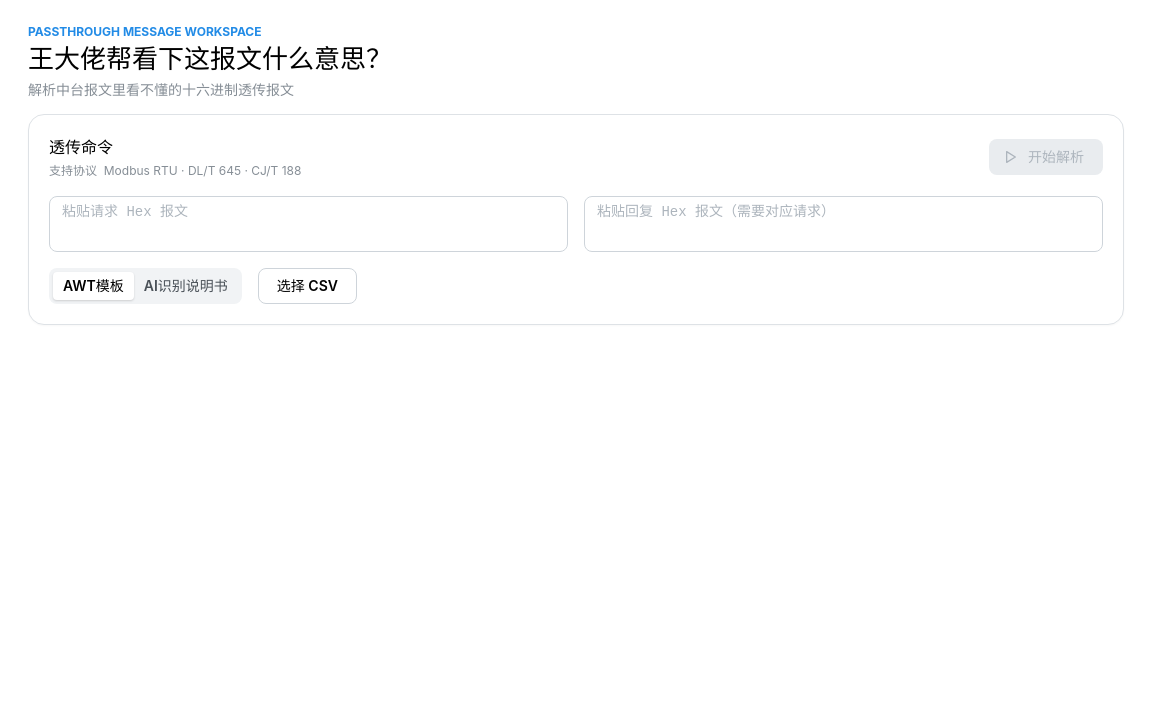
Test case: PassthroughWorkspace › allows an in-flight manual extraction to be stopped
Click the text "AI识别说明书" at [186, 286], box 144,277 -> 228,294
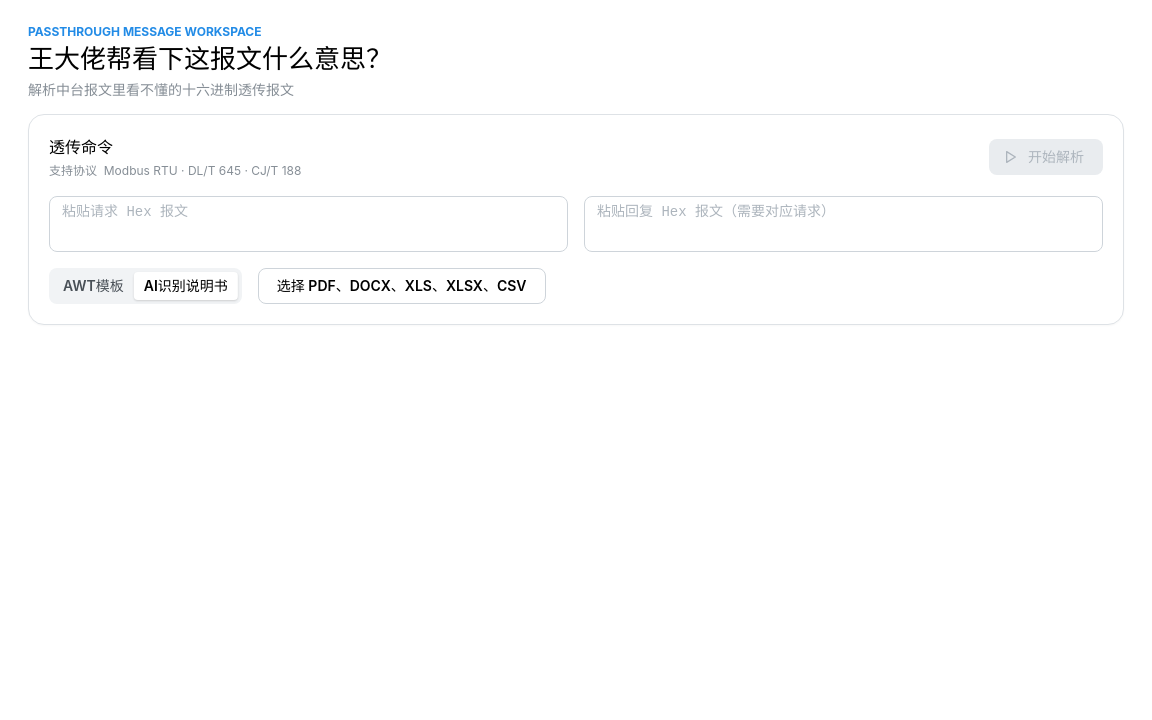
Click the button "选择 PDF、DOCX、XLS、XLSX、CSV" at [402, 286], box 258,268 -> 546,304
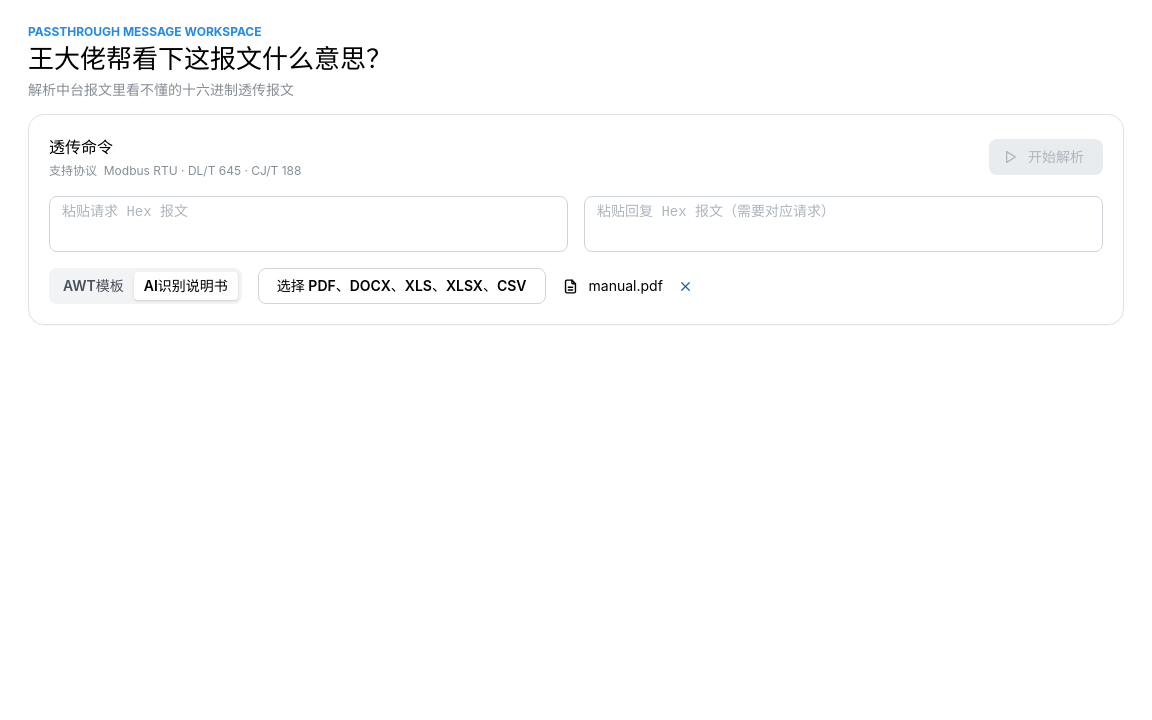
Check: the text "manual.pdf" is shown, box 589,276 -> 663,296
Type "010300000001840A" into the text box named "请求报文" at [308, 224], box 49,196 -> 568,252
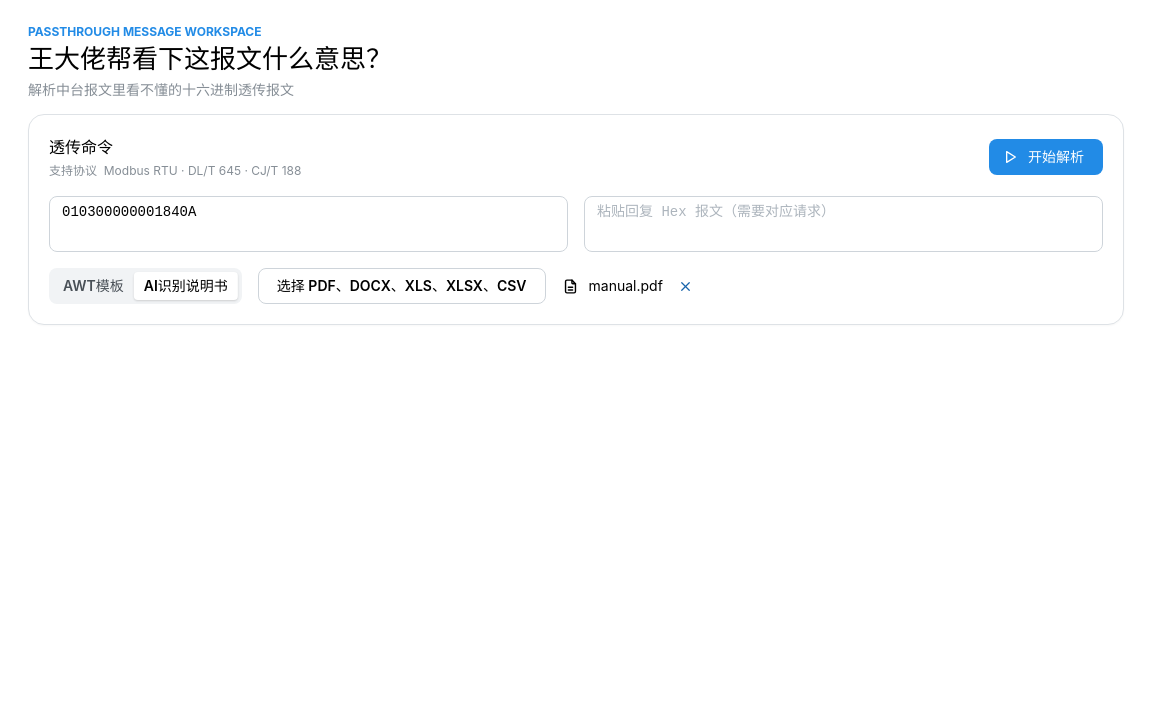
Click the button "开始解析" at [1046, 158], box 989,140 -> 1103,176
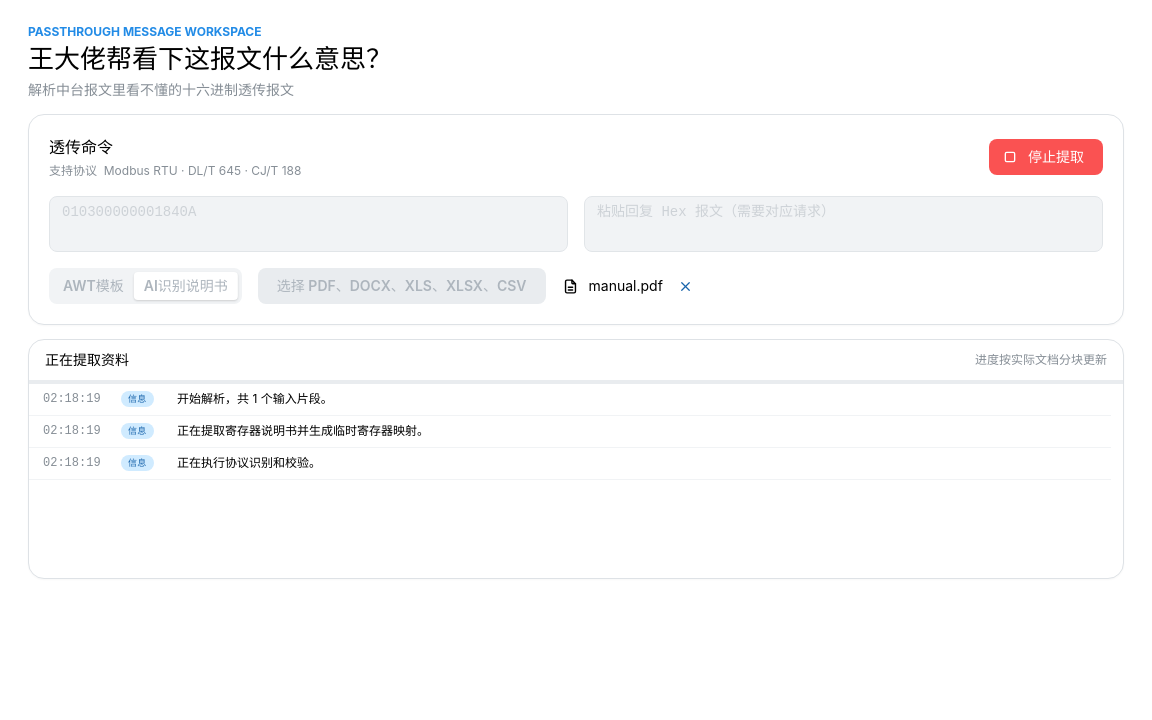
Click the button "停止提取" at [1046, 158], box 989,140 -> 1103,176
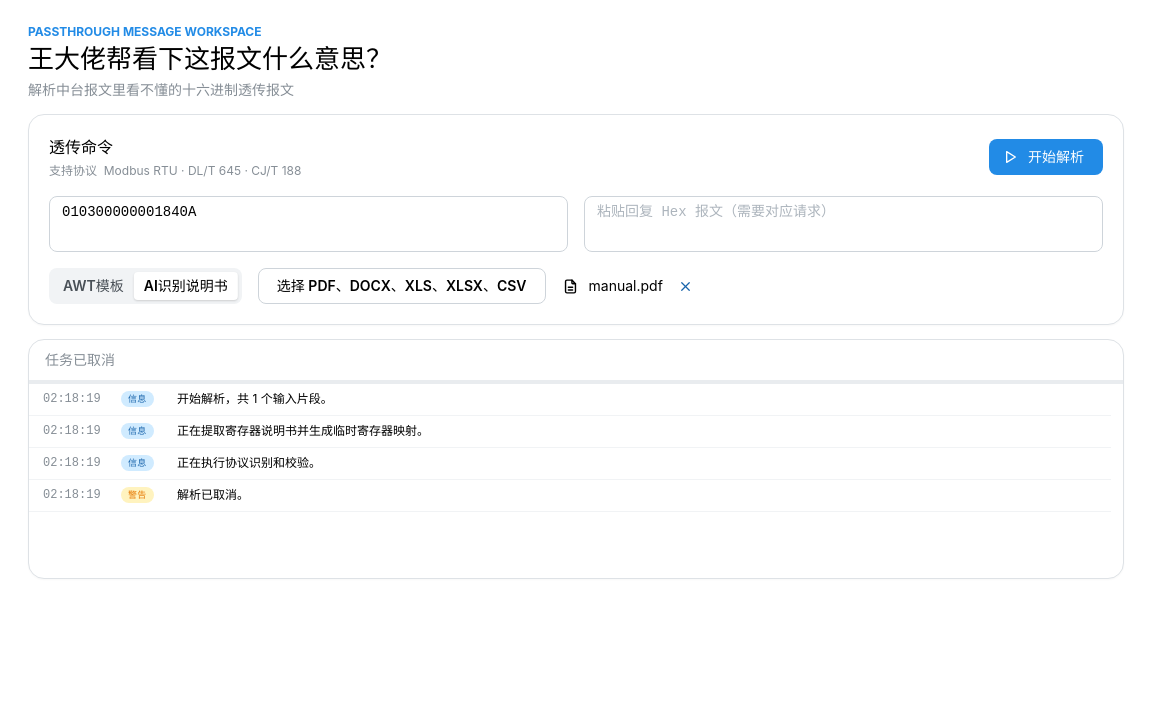
Check: the button "开始解析" is enabled, box 989,140 -> 1103,176
Check: the element named "处理日志" is shown, box 28,339 -> 1124,579
Check: the text "解析已取消。" is shown, box 177,487 -> 249,502
